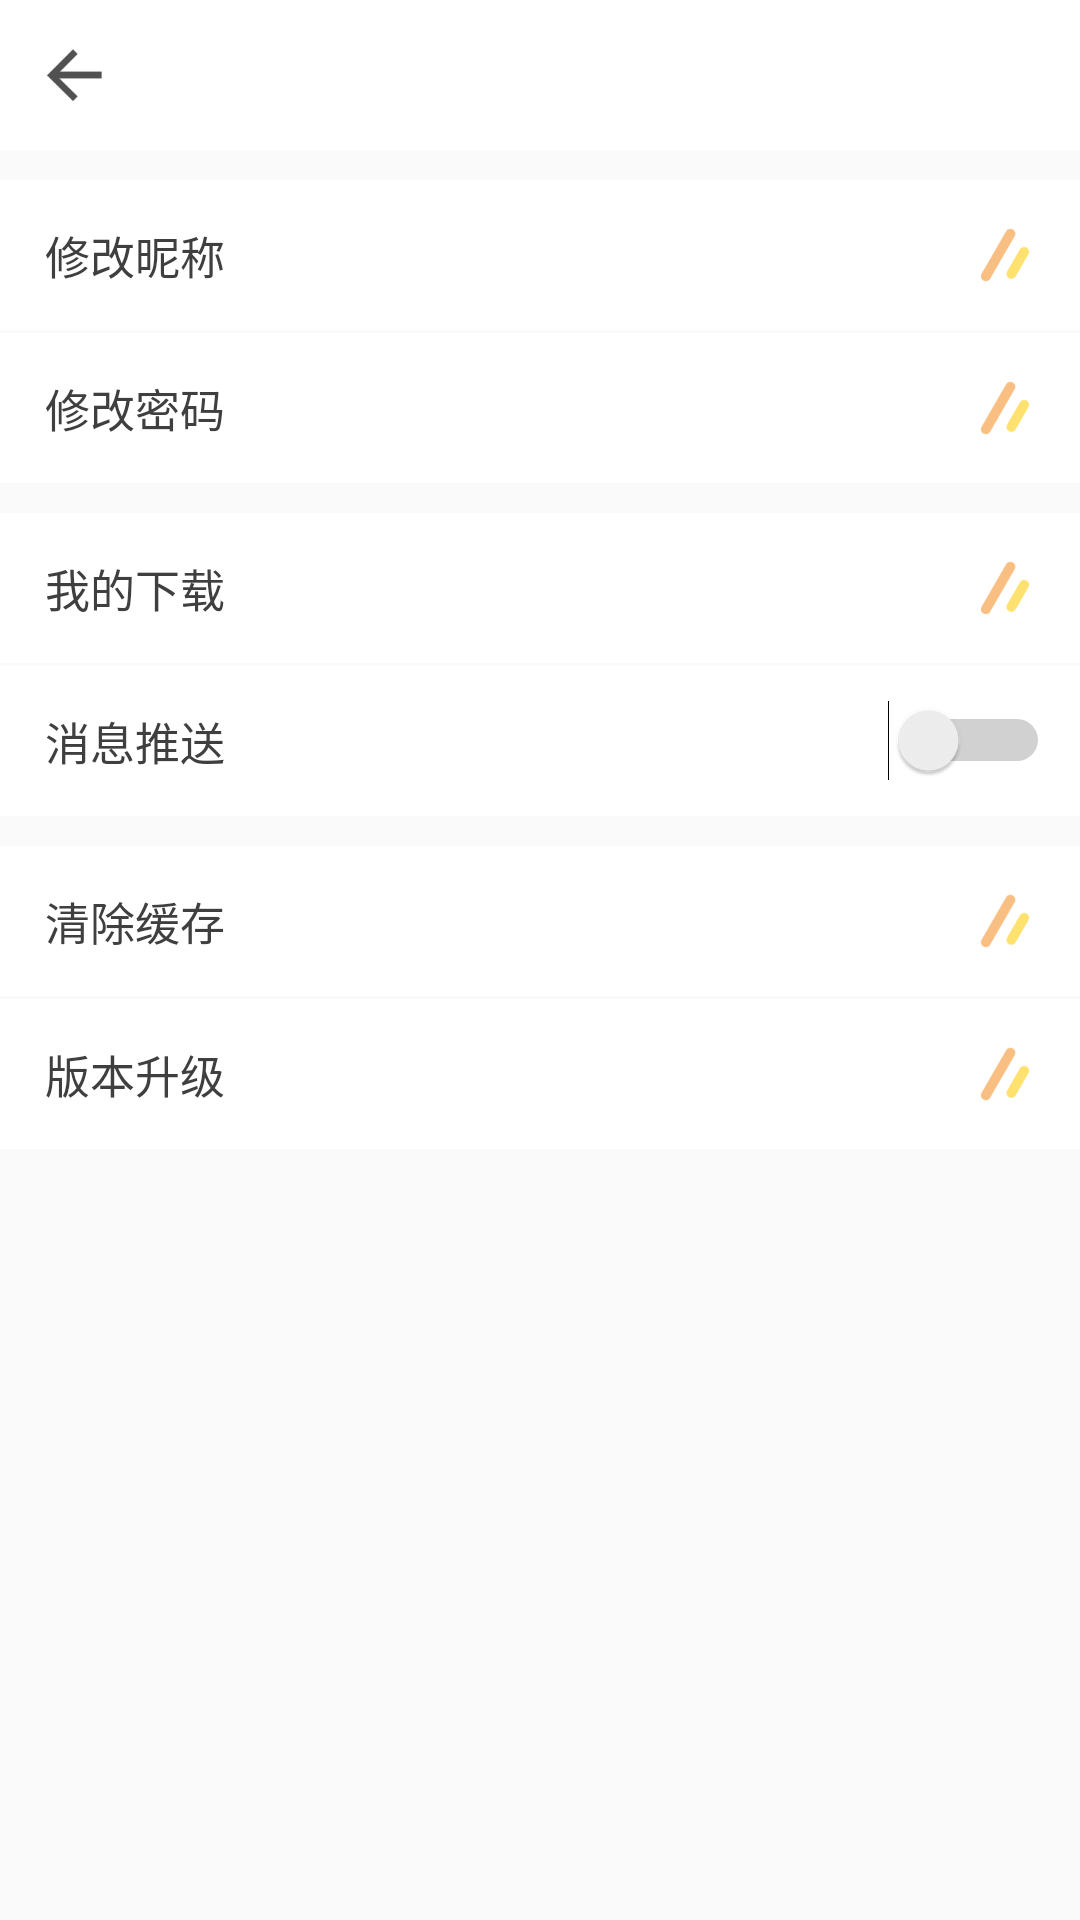

Screen size 1080px×1920px. Icon name, then its box in pixels as bbox=(x1, y1, x2, y2):
back: bbox=(47, 49, 102, 101)
